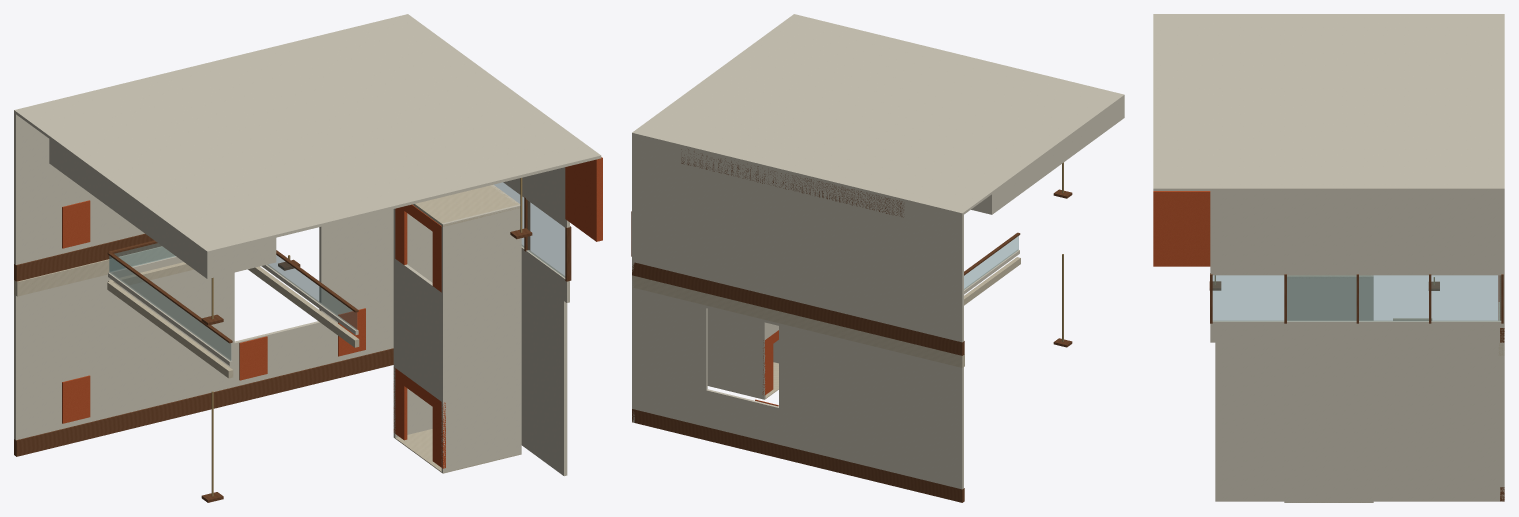
Rendered from Orchard_receiving_successor.glb.
3 renders of one model, left to right at view 1: azimuth 30°, elevation 25°; view 2: azimuth 150°, elevation 25°; view 3: azimuth 270°, elevation 25°, orthographic. The views are drawn at different scales.
Parts seen in each view (by area): view 1: EX_HighRoof, EX_NorthWall_52.5, EX_LiftSide_-239.46, EX_EastLowerWall, EX_NorthWall_61, EX_NorthDado_52.5, EX_WestSoffit, EX_LiftFrontBetween, EX_LiftSide_-243.66, EX_UpperPortalHeader, EX_LiftCap, EX_UpperDiningGlass (+22 smaller); view 2: EX_HighRoof, EX_NorthWall_61, EX_NorthWall_52.5, EX_NorthDado_52.5, EX_NorthDado_61, EX_LiftSide_-243.66, EX_NorthJoint, EX_WestSoffit, EX_NorthSoffit, EX_GalleryGlass_1, EX_GalleryFascia_1, EX_LiftJamb_52.5-243.66; view 3: EX_HighRoof, EX_EastLowerWall, EX_EastUpperTransom, EX_UpperDiningGlass, EX_EastUpperDado, EX_UpperPortalHeader, EX_LiftBack, EX_NorthWall_52.5, EX_NorthWall_61.
Part boxes in pixels (x1,y1,x2,y2): EX_HighRoof: (14, 14, 601, 254); EX_NorthWall_52.5: (14, 209, 393, 440); EX_LiftSide_-239.46: (441, 204, 521, 473); EX_EastLowerWall: (521, 270, 567, 476); EX_NorthWall_61: (14, 113, 144, 264); EX_NorthDado_52.5: (14, 348, 393, 456); EX_WestSoffit: (49, 139, 276, 278); EX_LiftFrontBetween: (393, 259, 445, 401); EX_LiftSide_-243.66: (393, 208, 432, 438); EX_UpperPortalHeader: (565, 157, 602, 241); EX_LiftCap: (412, 185, 520, 226); EX_UpperDiningGlass: (494, 182, 565, 277); EX_HighRoof: (632, 14, 1124, 215); EX_NorthWall_61: (632, 135, 963, 342); EX_NorthWall_52.5: (632, 287, 963, 489); EX_NorthDado_52.5: (632, 409, 964, 502); EX_NorthDado_61: (632, 262, 964, 355); EX_LiftSide_-243.66: (707, 308, 765, 399); EX_NorthJoint: (632, 275, 964, 367); EX_WestSoffit: (971, 97, 1124, 214); EX_NorthSoffit: (681, 149, 903, 217); EX_GalleryGlass_1: (964, 236, 1018, 289); EX_GalleryFascia_1: (964, 257, 1020, 305); EX_LiftJamb_52.5-243.66: (762, 334, 773, 395); EX_HighRoof: (1153, 14, 1504, 190); EX_EastLowerWall: (1215, 342, 1504, 501); EX_EastUpperTransom: (1210, 191, 1504, 275); EX_UpperDiningGlass: (1212, 275, 1501, 321); EX_EastUpperDado: (1210, 320, 1504, 342); EX_UpperPortalHeader: (1153, 191, 1210, 266); EX_LiftBack: (1284, 276, 1373, 502); EX_NorthWall_52.5: (1501, 356, 1504, 487); EX_NorthWall_61: (1501, 191, 1504, 327).
Size of the model in its own units: 20.08 by 16.98 by 17.
9 materials, 7 textured.
